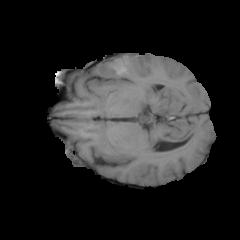glioma: (91, 53, 134, 85)
